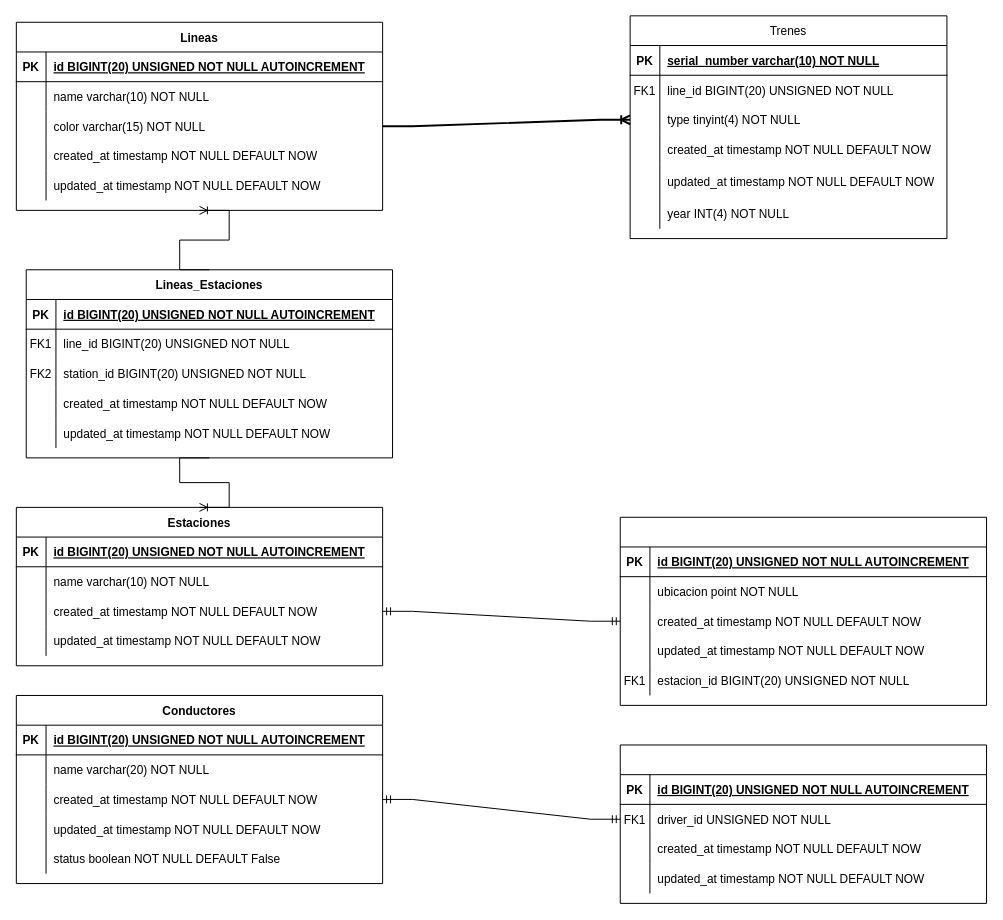
This 1003x920 diagram has some shape labels left out. Here are the shapes that lost their labels. From the top down, the box of each, then its label:
(619, 516, 987, 705): Ubicaciones
(619, 744, 987, 903): conductores_activos
